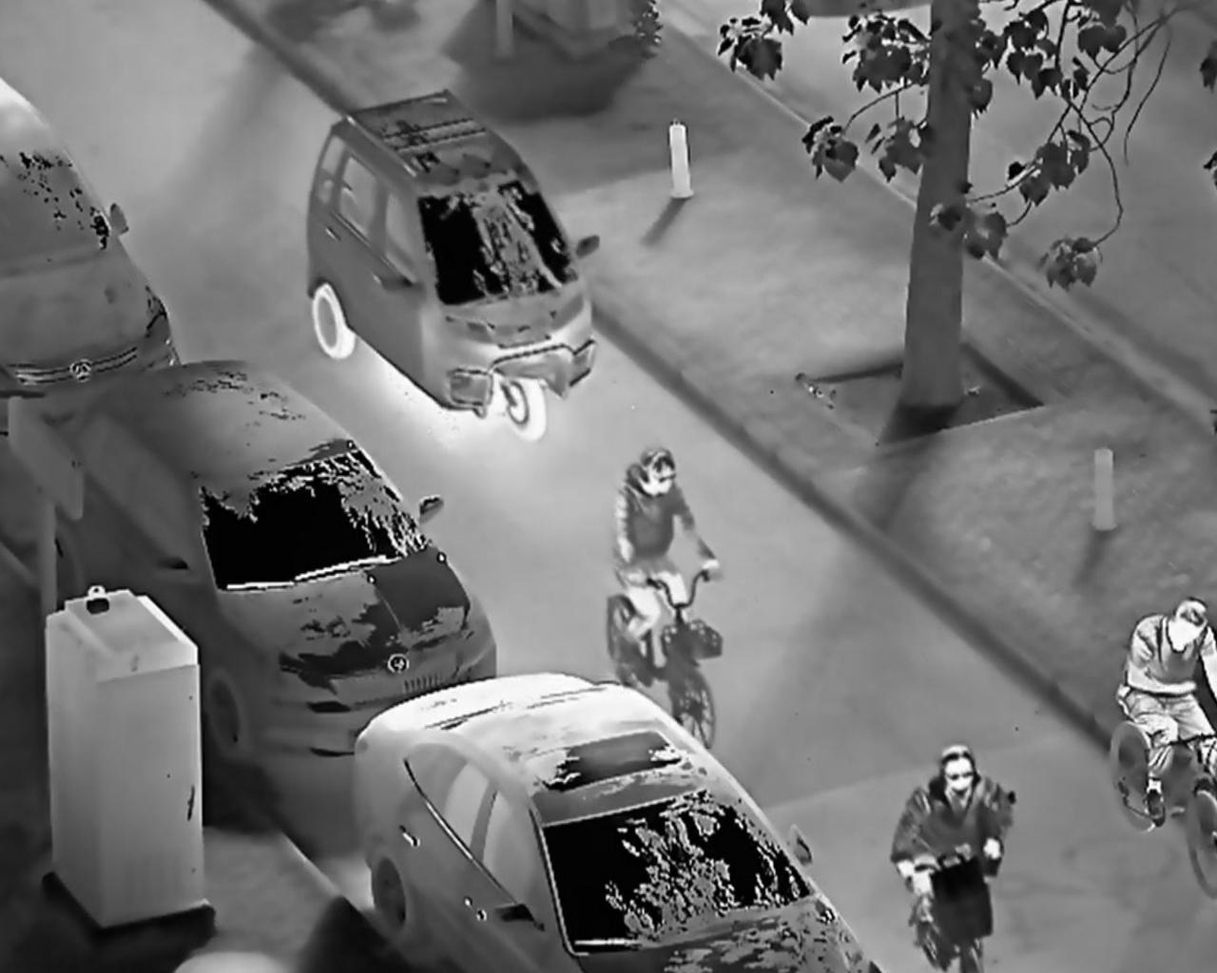person: (886, 740, 1021, 954), (613, 442, 726, 685), (1111, 595, 1217, 828)
